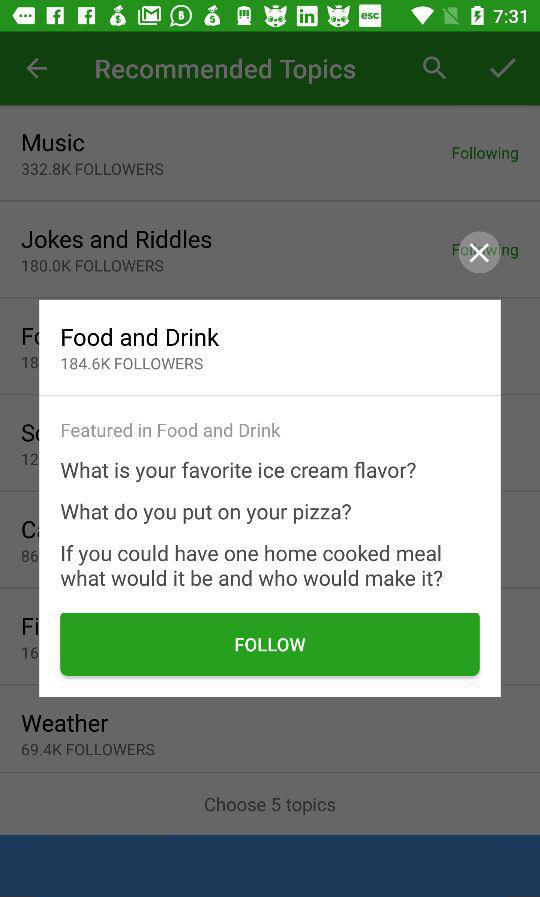Icon: (458, 231, 501, 275), (423, 57, 447, 81), (489, 59, 516, 80), (26, 58, 48, 80)
Modal: (39, 300, 502, 698)
Text: (61, 544, 443, 588), (60, 461, 417, 484), (96, 59, 356, 86), (61, 503, 352, 525), (62, 422, 281, 439), (23, 230, 212, 249), (62, 327, 221, 349), (205, 797, 336, 815), (62, 356, 204, 371), (22, 260, 164, 273), (23, 164, 165, 177), (23, 743, 156, 756), (21, 714, 109, 733), (22, 134, 85, 153), (452, 148, 519, 164)
TextButton: (61, 613, 480, 677)
UpperTaskBar: (1, 1, 540, 33)
